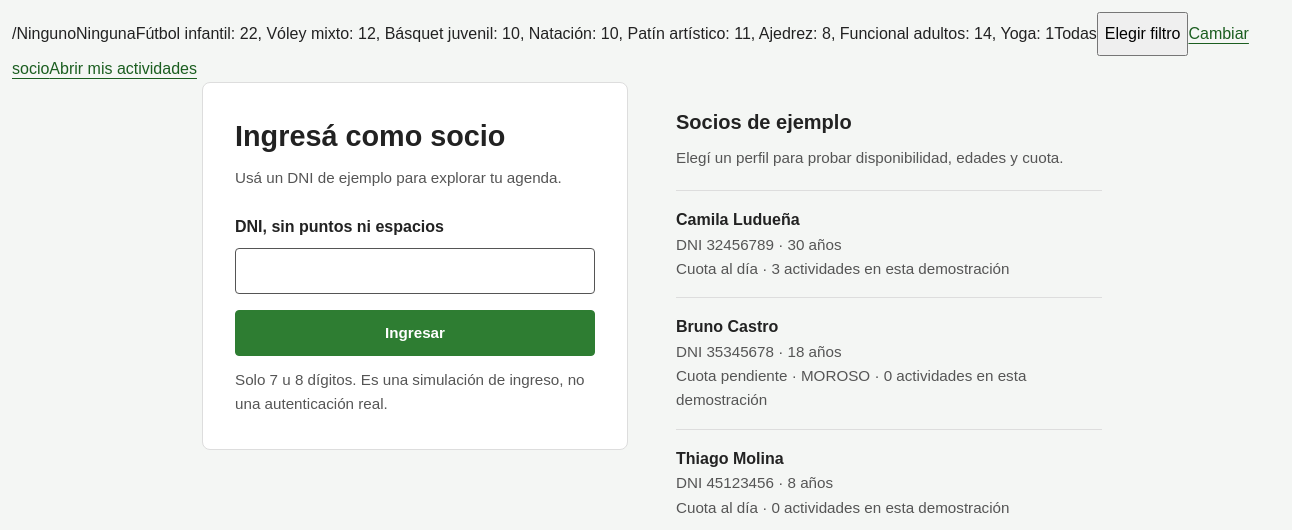
Ingreso local por DNI › returns to the local requested pathname /actividades/4 after selection
The image size is (1292, 530).
Type "32456789" into the field labelled "DNI, sin puntos ni espacios" at (415, 271), box [235, 248, 595, 294]
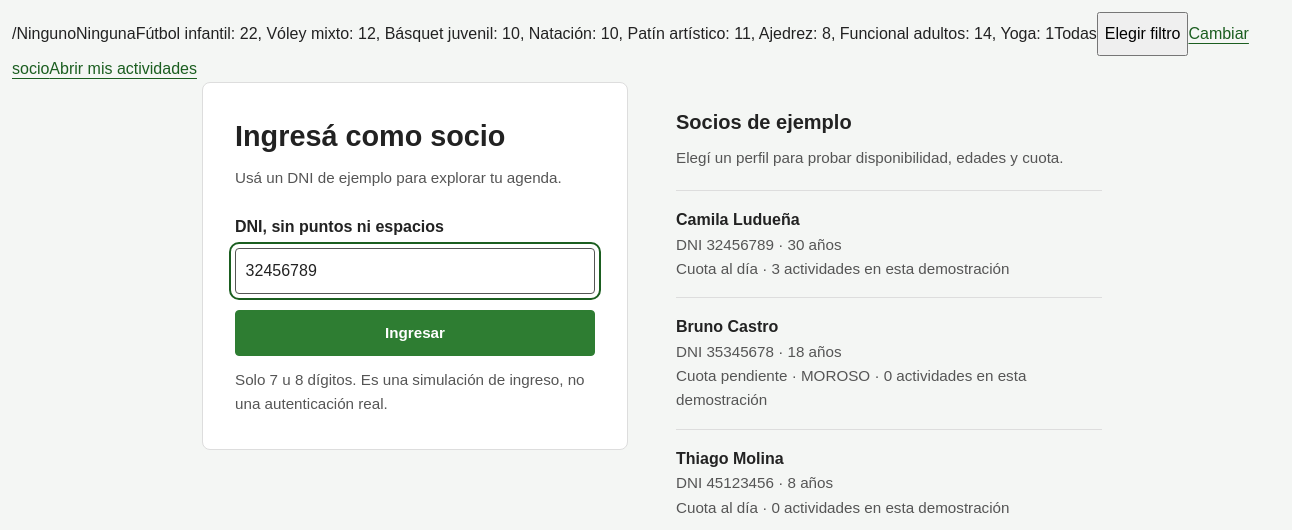
Click the button "Ingresar" at (415, 333), box [235, 310, 595, 356]
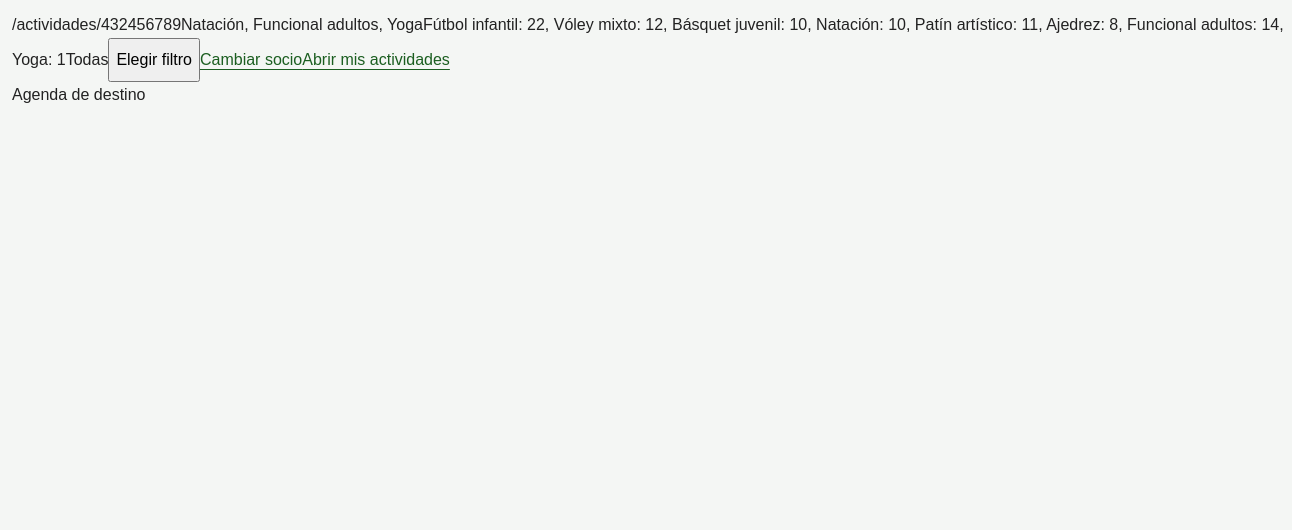
Expected: the text named "Ruta actual" reads "/actividades/4", [12, 16, 110, 33]
